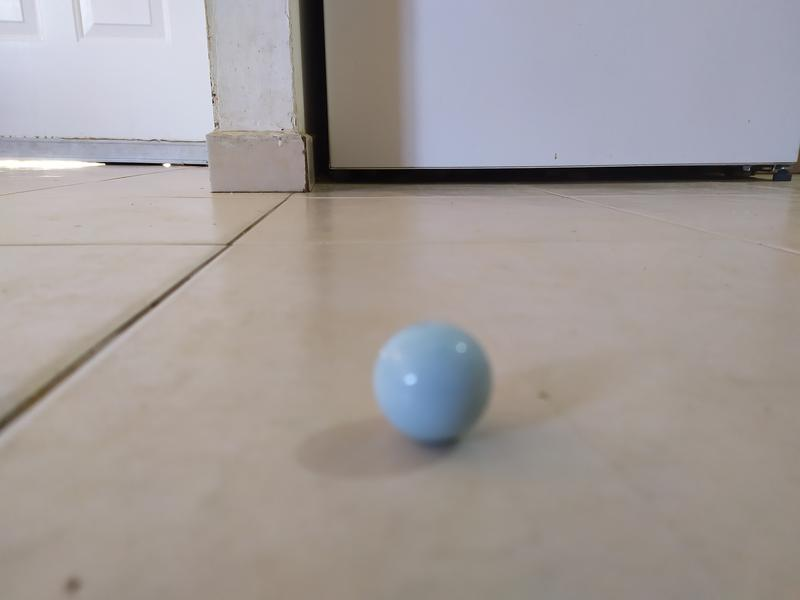Warning: (368, 316, 496, 449)
